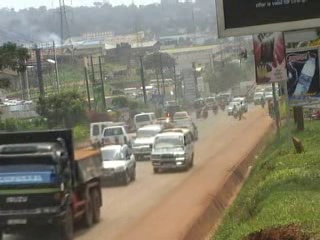Car: (98, 142, 137, 185), (131, 122, 162, 160), (98, 125, 132, 151), (87, 120, 117, 149), (227, 96, 249, 116), (151, 116, 173, 130)
Motorcycle: (230, 102, 239, 119), (202, 100, 207, 119), (212, 100, 218, 115)
